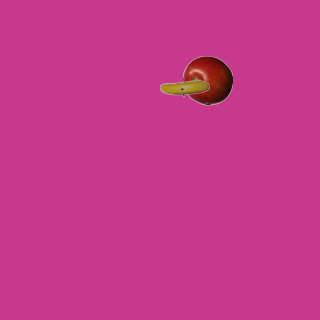Apple Braeburn: (182, 55, 232, 105)
Banana: (159, 63, 209, 113)
